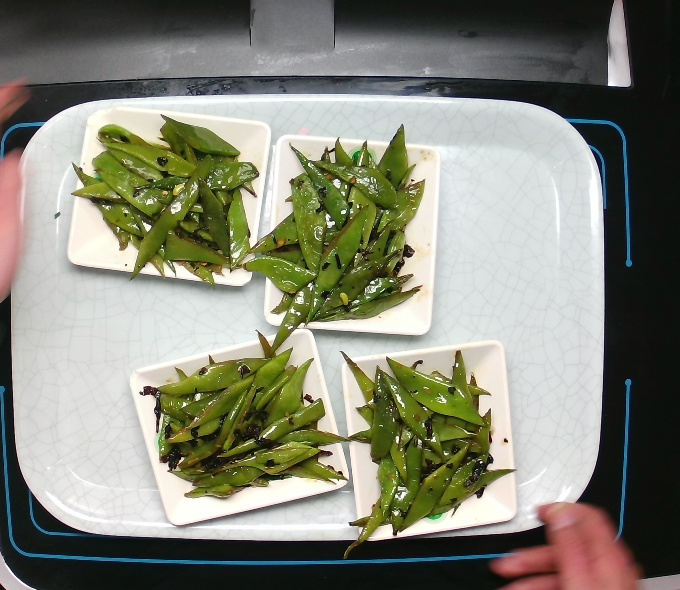wcq-ChaoSiJiDou: (241, 121, 432, 345), (133, 330, 350, 514), (333, 346, 512, 556), (54, 112, 260, 281)
